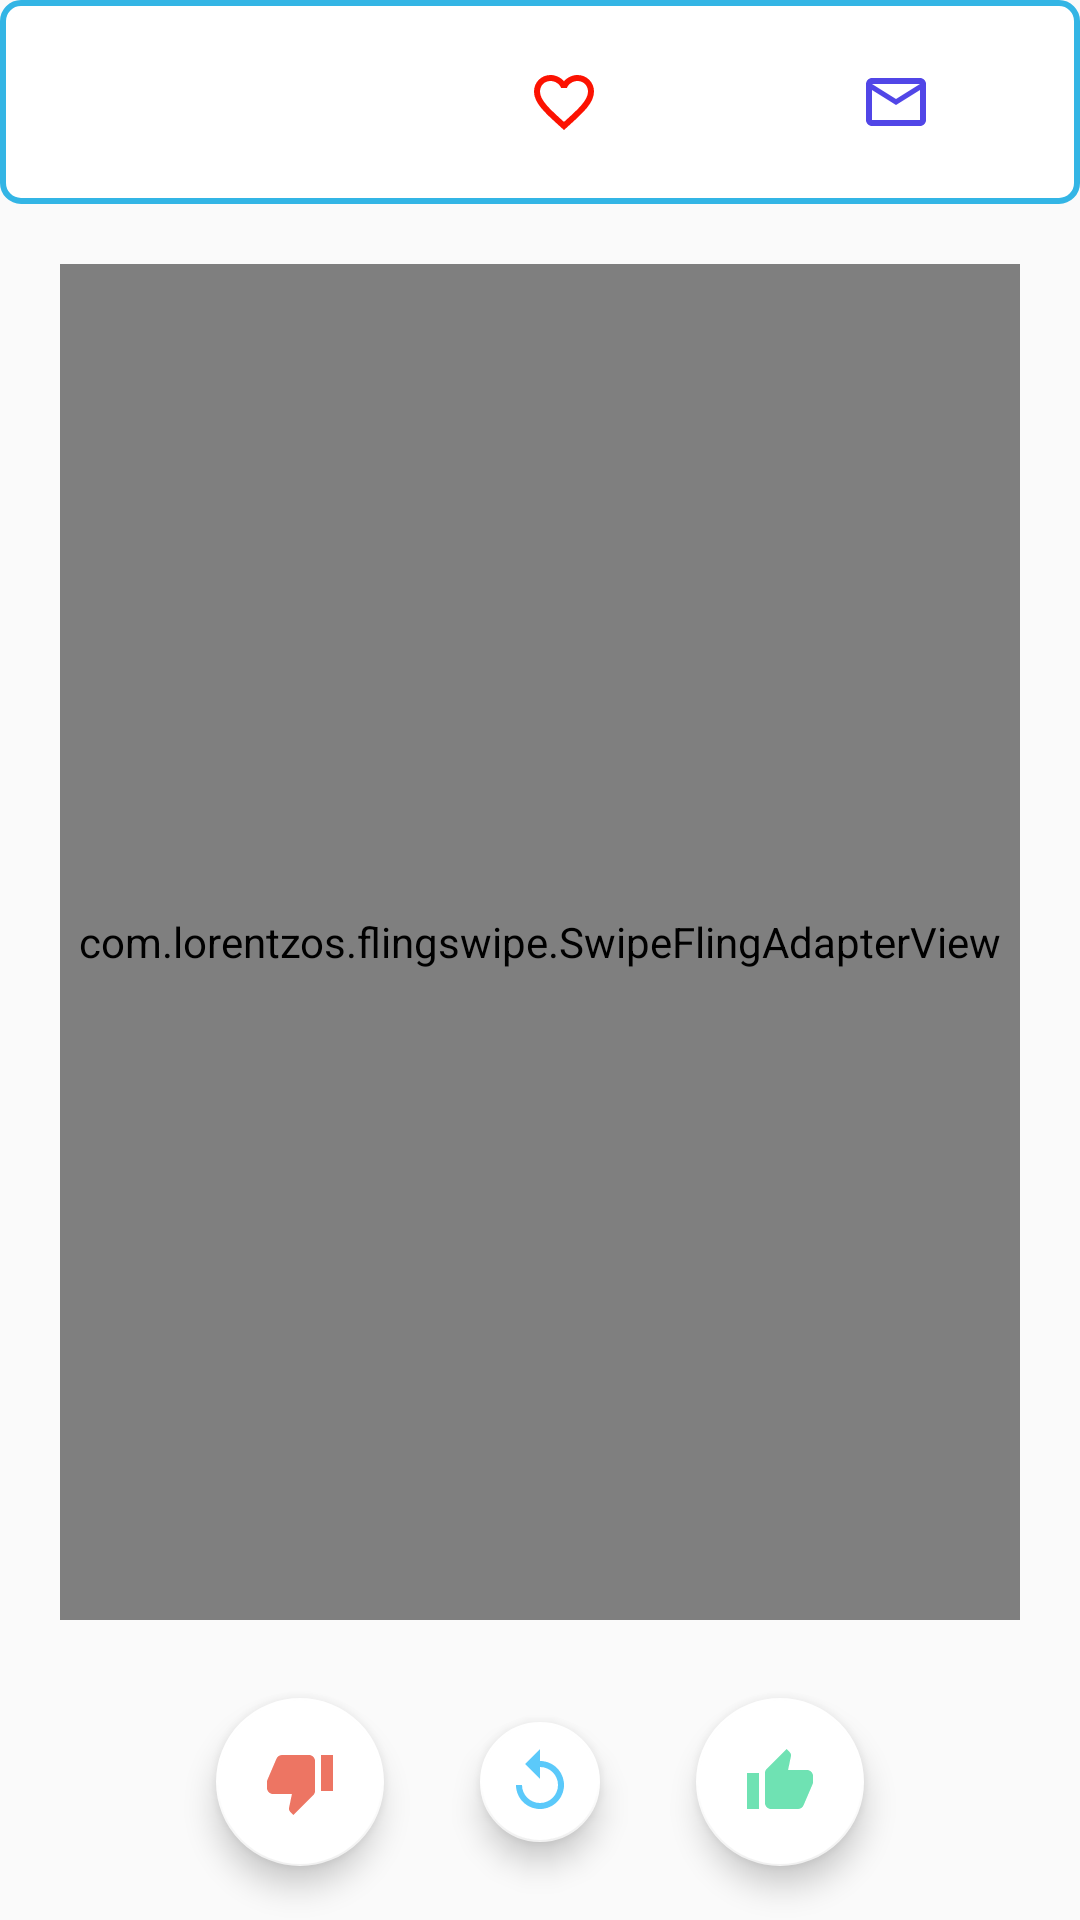

Screen size 1080px x 1920px. Icon name, then its center in pixels as [x,y]:
favorite border: [564,102]
like: [780,1779]
mail: [896,102]
rewind: [522,1779]
skip: [324,1785]
